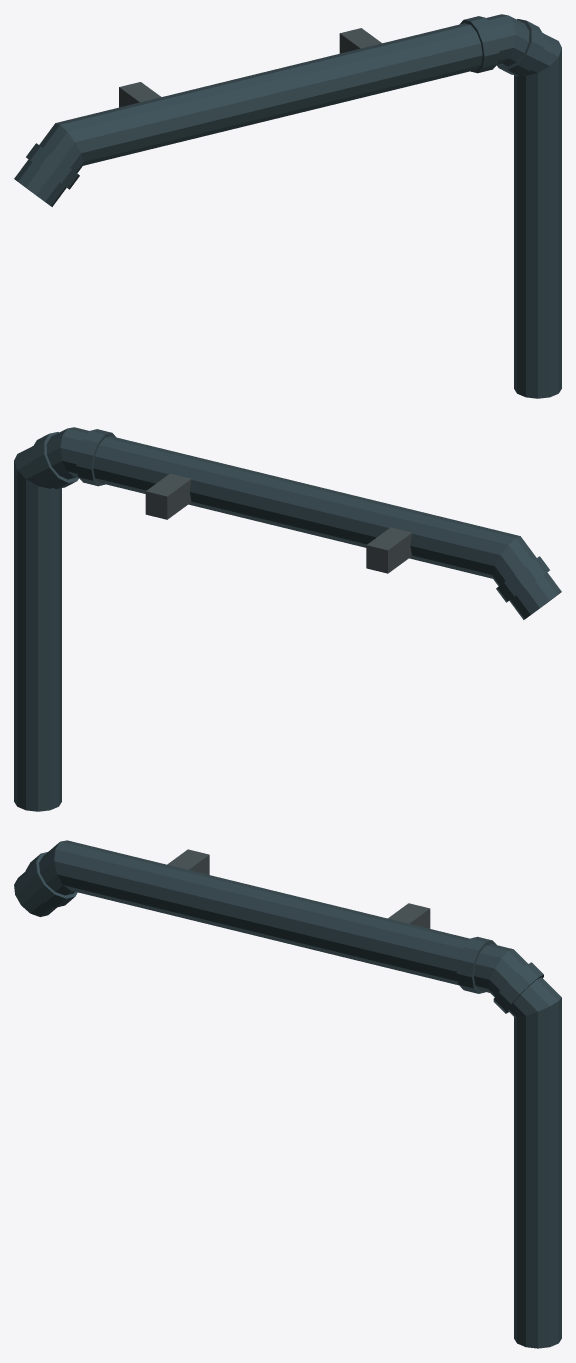
The model's file is WaterworksLower_MidPipe.fbx.
3 renders of one model, top to bottom at view 1: azimuth 30°, elevation 25°; view 2: azimuth 150°, elevation 25°; view 3: azimuth 330°, elevation 25°, orthographic.
Visible parts, largest first — view 1: WaterworksLower_MidPipe; view 2: WaterworksLower_MidPipe; view 3: WaterworksLower_MidPipe.
Boxes of the visible parts, bbox=[...] form: WaterworksLower_MidPipe: bbox=[14, 14, 561, 398]; WaterworksLower_MidPipe: bbox=[14, 427, 561, 811]; WaterworksLower_MidPipe: bbox=[14, 840, 561, 1348].
Size of the model in its own units: 2.7 by 1.83 by 0.4171.
